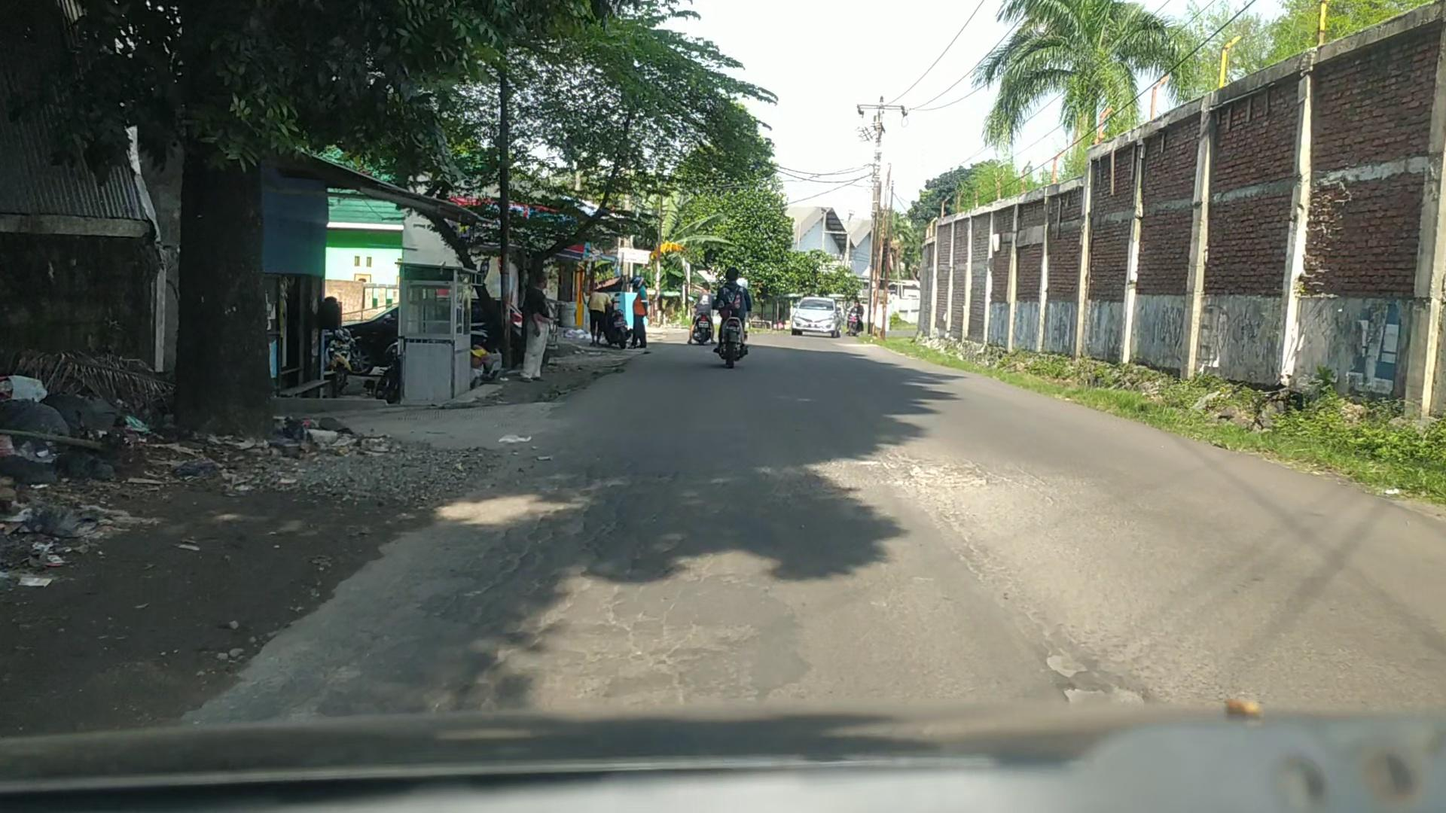pothole: (1061, 684, 1148, 707), (1044, 652, 1088, 679)
